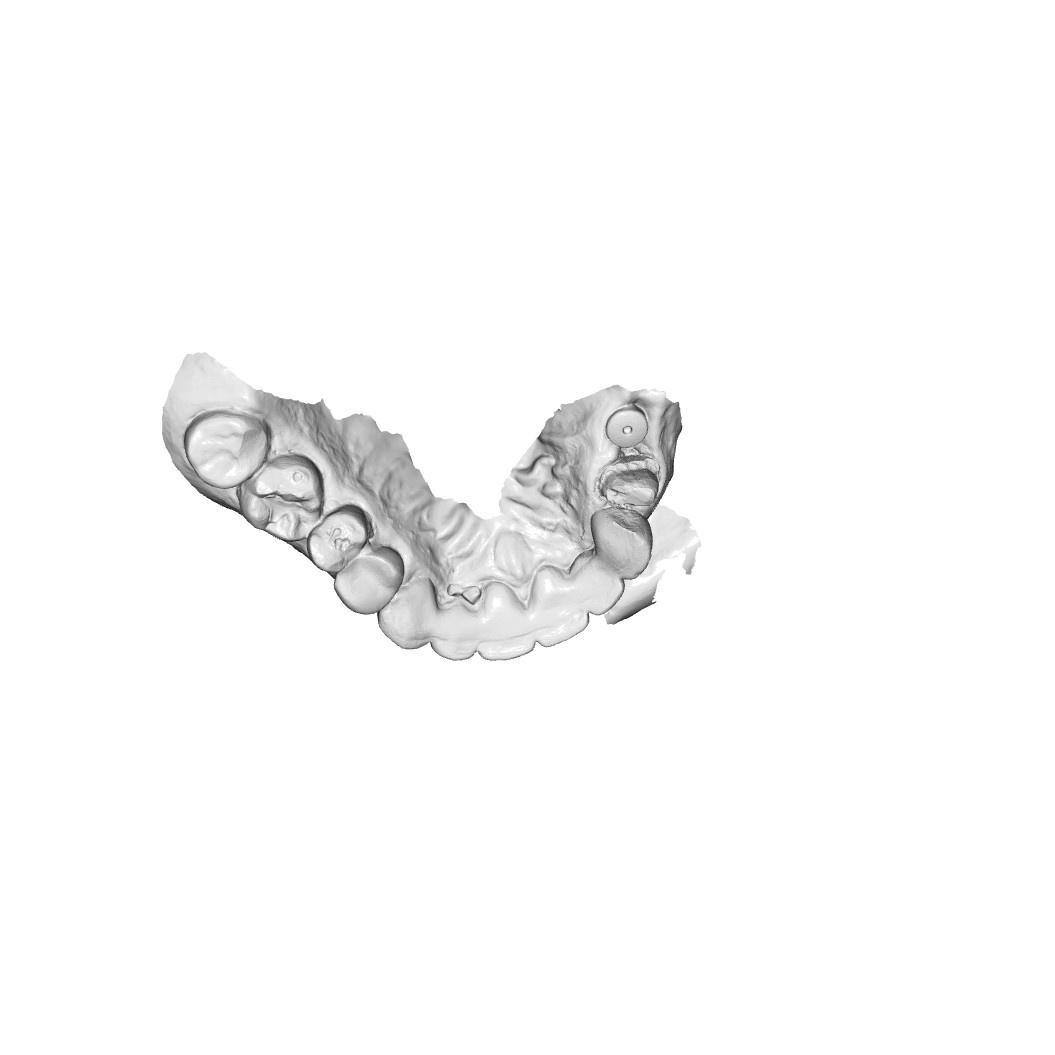canine: (589, 509, 656, 582), (379, 584, 437, 652)
crown: (600, 459, 664, 512)
implant: (604, 404, 651, 450)
incisor: (528, 566, 591, 651), (475, 584, 540, 663), (568, 550, 627, 620), (432, 601, 480, 660)
molar: (237, 456, 327, 543), (182, 407, 271, 492)
premolar: (331, 547, 405, 617), (305, 506, 373, 575)
